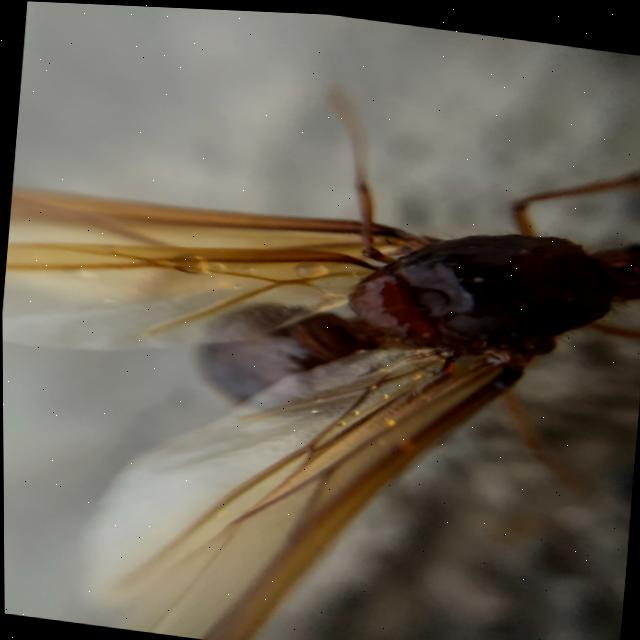Alive-Male-Alate: (0, 44, 640, 640)
